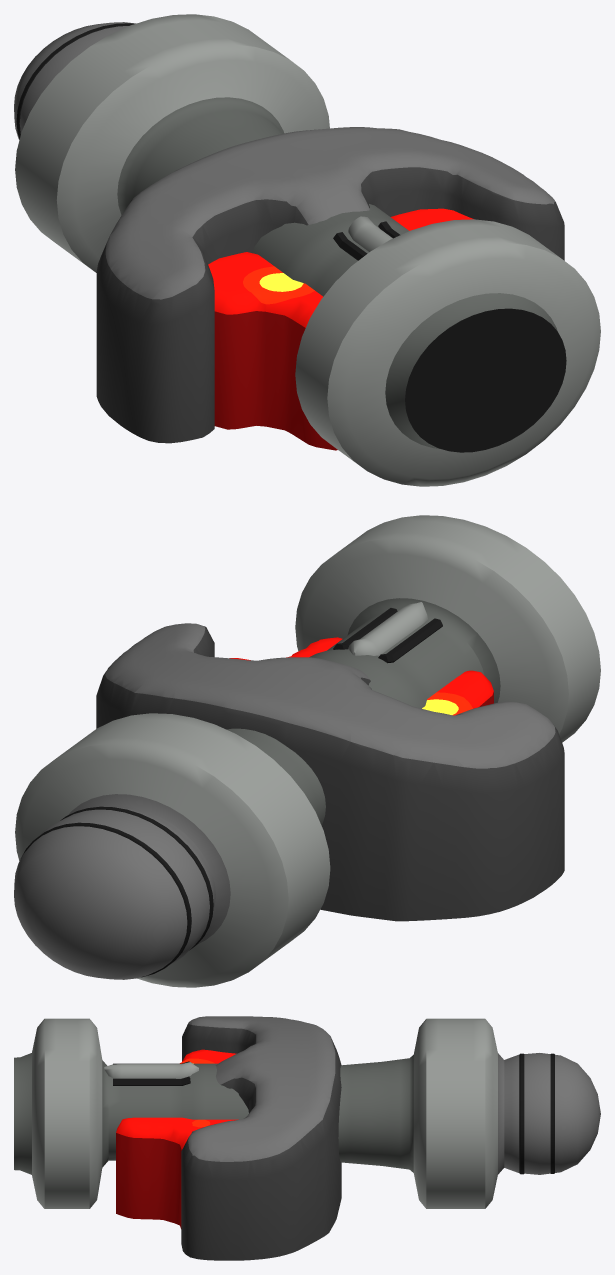
The model's file is rod_top.glb.
3 renders of one model, top to bottom at view 1: azimuth 30°, elevation 25°; view 2: azimuth 150°, elevation 25°; view 3: azimuth 270°, elevation 25°, orthographic. The views are drawn at different scales.
Visible parts, largest first — view 1: body.001, cowl.001, vent_l.001, vent_r.001, ridge1.001, knob_groove1.001; view 2: body.001, cowl.001, vent_l.001, ridge1.001, knob_groove1.001, knob_groove0.001, ridge_groove1-1.001; view 3: body.001, cowl.001, vent_r.001, ridge1.001, knob_groove0.001, ridge_groove11.001, knob_groove1.001, vent_l.001.
Part boxes in pixels (left/top/right/bottom): body.001: left=14, top=14, right=600, bottom=486; cowl.001: left=96, top=127, right=564, bottom=443; vent_l.001: left=208, top=252, right=337, bottom=450; vent_r.001: left=391, top=208, right=473, bottom=230; ridge1.001: left=348, top=216, right=392, bottom=251; knob_groove1.001: left=16, top=23, right=134, bottom=138; body.001: left=14, top=515, right=600, bottom=987; cowl.001: left=96, top=623, right=564, bottom=921; vent_l.001: left=422, top=670, right=493, bottom=715; ridge1.001: left=348, top=602, right=427, bottom=655; knob_groove1.001: left=20, top=822, right=191, bottom=977; knob_groove0.001: left=60, top=806, right=213, bottom=950; ridge_groove1-1.001: left=378, top=618, right=442, bottom=663; body.001: left=14, top=1018, right=600, bottom=1208; cowl.001: left=181, top=1016, right=341, bottom=1260; vent_r.001: left=116, top=1117, right=238, bottom=1228; ridge1.001: left=104, top=1062, right=198, bottom=1078; knob_groove0.001: left=519, top=1053, right=524, bottom=1174; ridge_groove11.001: left=113, top=1076, right=190, bottom=1085; knob_groove1.001: left=550, top=1053, right=554, bottom=1173; vent_l.001: left=180, top=1049, right=236, bottom=1063.
Bounding box in the file's own units: 16.53 × 8.69 × 27.9.
